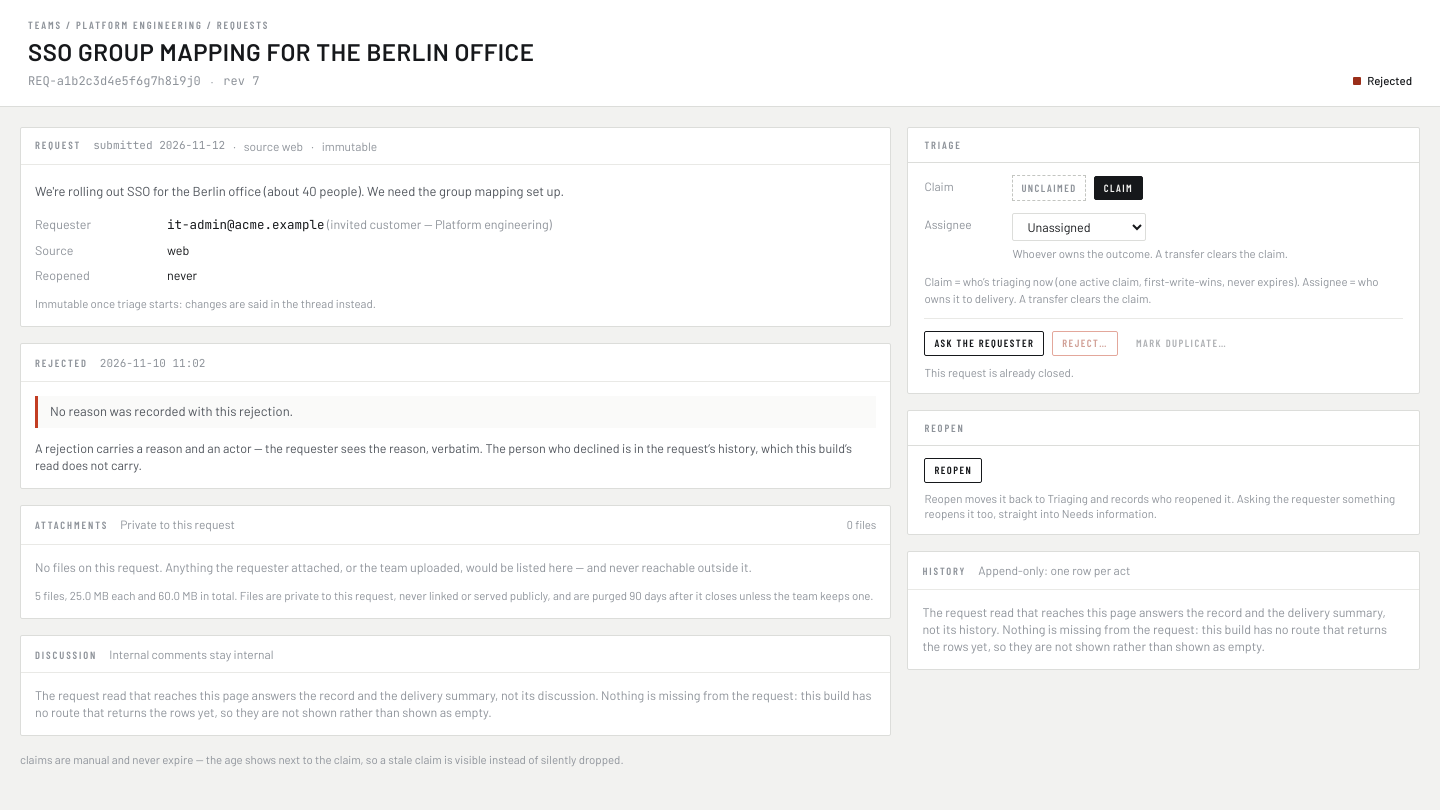
a failed write preserves the draft and explains itself › states a stale revision plainly, and sends the act with the revision the page read
The image size is (1440, 810).
Click the button "Reopen".
click(953, 470)  # box [924,458,982,482]
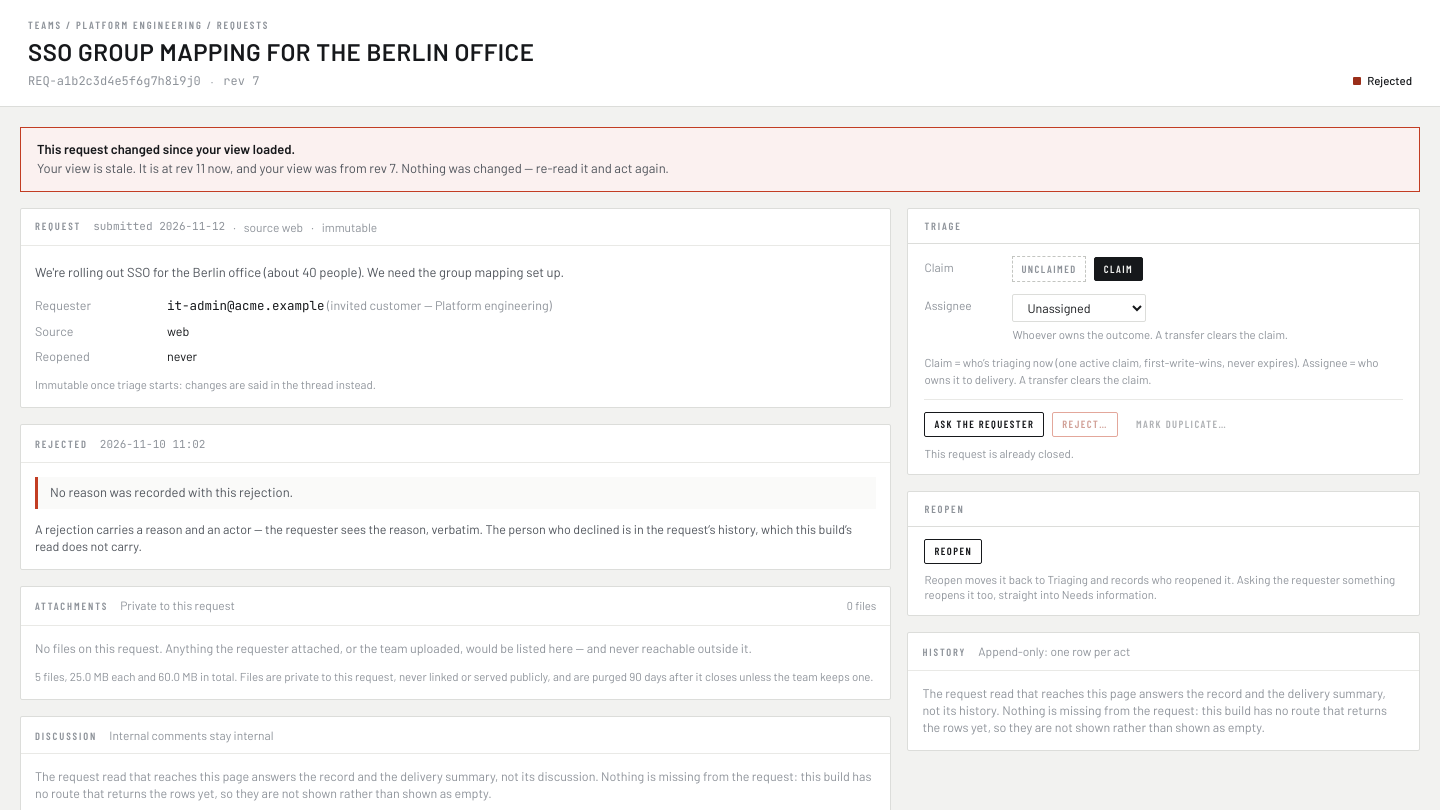
Now the message shows "This request changed since your view loaded.", box [37,141,295,157]
Now the message shows "rev 11", box [37,160,669,176]
Now the message shows "rev 7", box [37,160,669,176]
